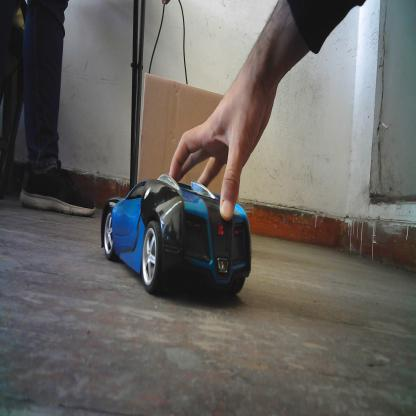LeadTruck: (140, 71, 234, 230)
